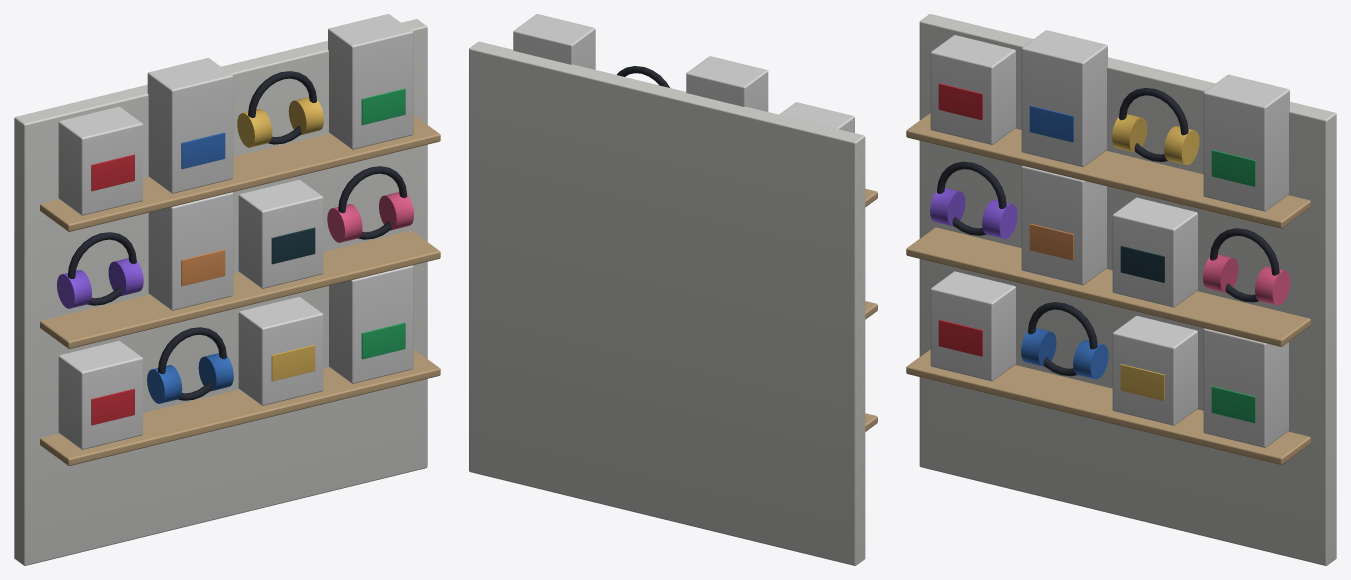
Rendered from accessory-wall.glb.
3 views of the same model, side by side, from view 1: azimuth 30°, elevation 25°; view 2: azimuth 150°, elevation 25°; view 3: azimuth 330°, elevation 25° (orthographic). The views are drawn at different scales.
Visible parts, largest first — view 1: accessory-wall-solid; view 2: accessory-wall-solid; view 3: accessory-wall-solid.
Boxes of the visible parts, <box> form: accessory-wall-solid: <box>14,14,440,565</box>; accessory-wall-solid: <box>469,14,877,565</box>; accessory-wall-solid: <box>906,14,1336,565</box>.
Bounding box in the file's own units: 1.04 × 1.14 × 0.1755.
